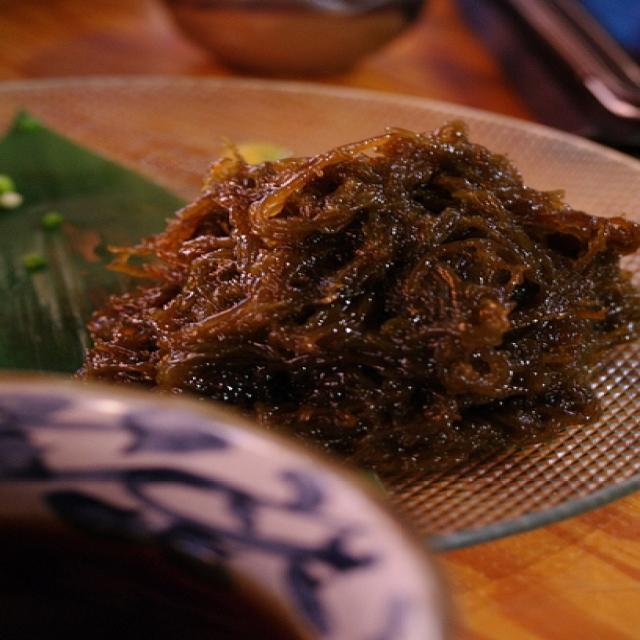蔬菜料理: (48, 31, 628, 538)
